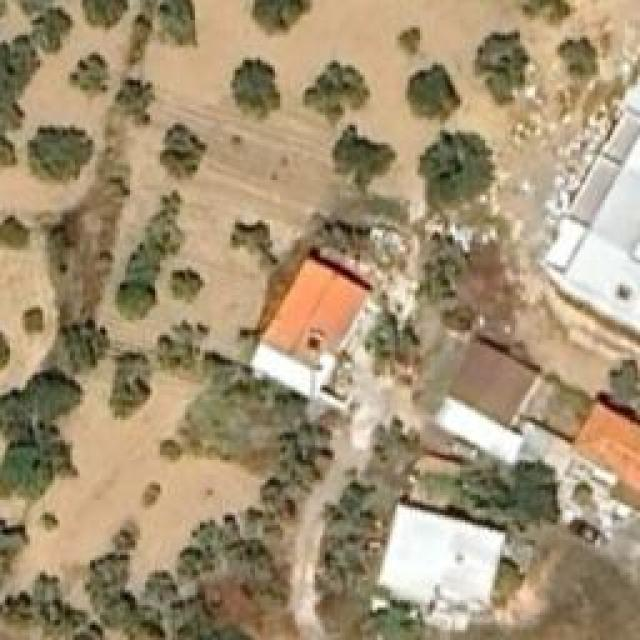Tree: (415, 130, 495, 210), (470, 27, 530, 105), (333, 123, 396, 196), (302, 60, 370, 125), (28, 127, 93, 185), (230, 53, 280, 123), (22, 367, 82, 425), (0, 442, 56, 497), (158, 123, 208, 183), (403, 70, 456, 120), (60, 318, 108, 367), (158, 320, 201, 370), (558, 35, 601, 83), (252, 0, 315, 32), (115, 78, 155, 123), (115, 278, 159, 318), (70, 53, 110, 93), (83, 0, 128, 28), (170, 268, 203, 305), (35, 13, 68, 48), (0, 218, 30, 251), (518, 0, 568, 18), (443, 305, 476, 330), (398, 25, 421, 55), (23, 305, 43, 333), (38, 513, 61, 533)
